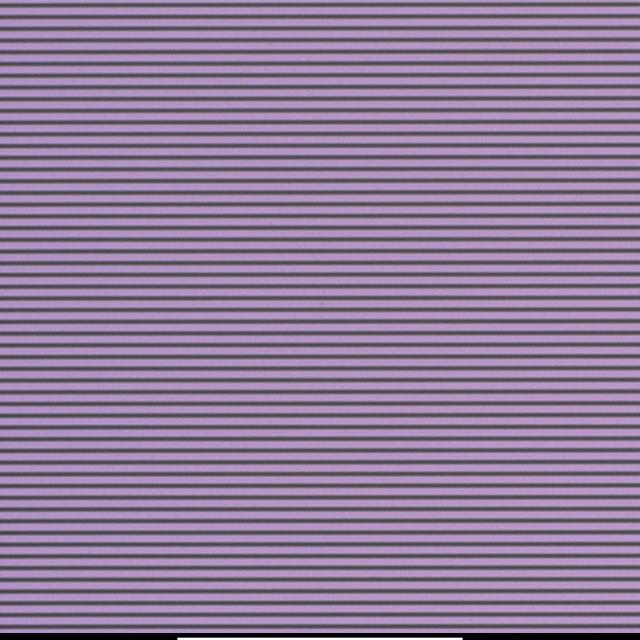nonvisual: (315, 301, 326, 308)
